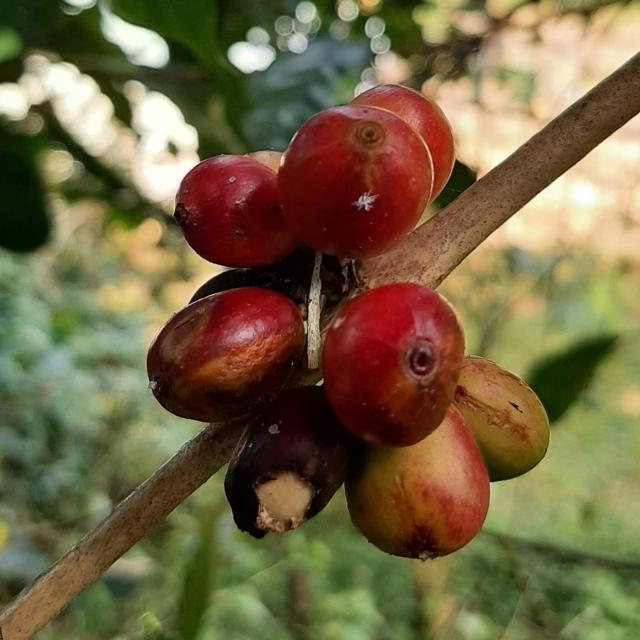red: (278, 84, 456, 258), (323, 284, 465, 447), (147, 287, 305, 423), (224, 386, 355, 539), (174, 151, 296, 268), (350, 84, 457, 201)
yellow: (345, 406, 490, 561), (455, 356, 551, 482)
